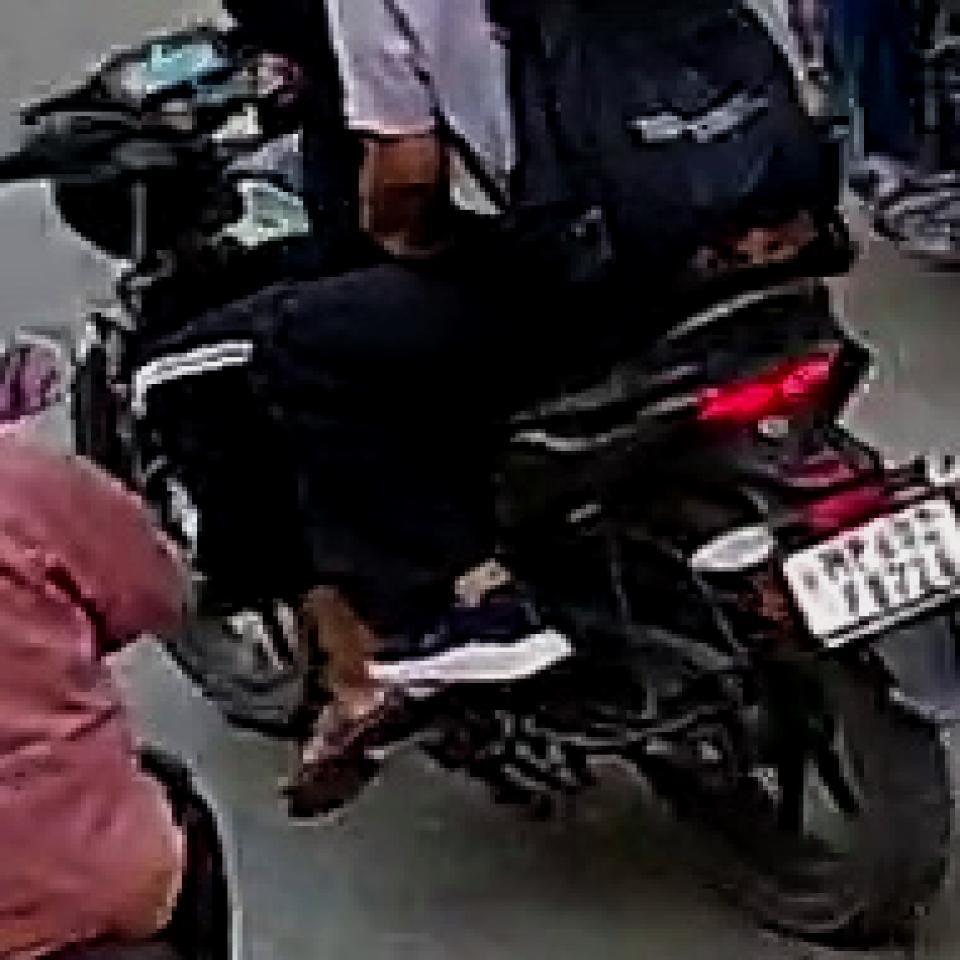tail_light: (694, 350, 833, 442)
